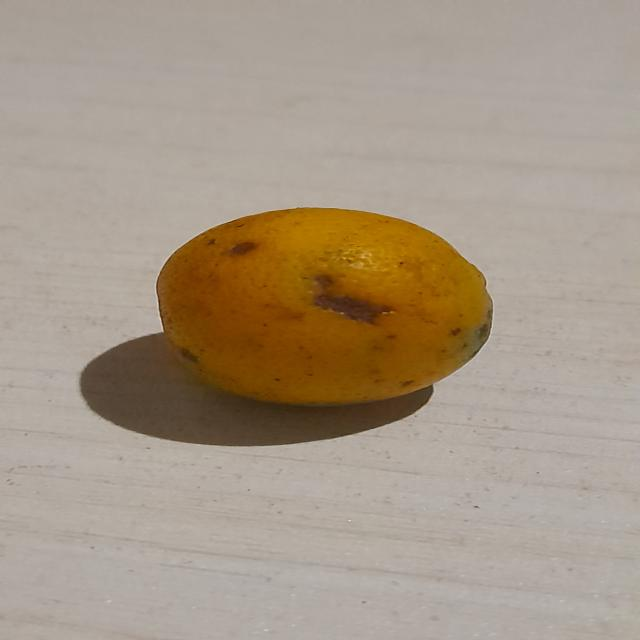black spot: (148, 202, 495, 408)
